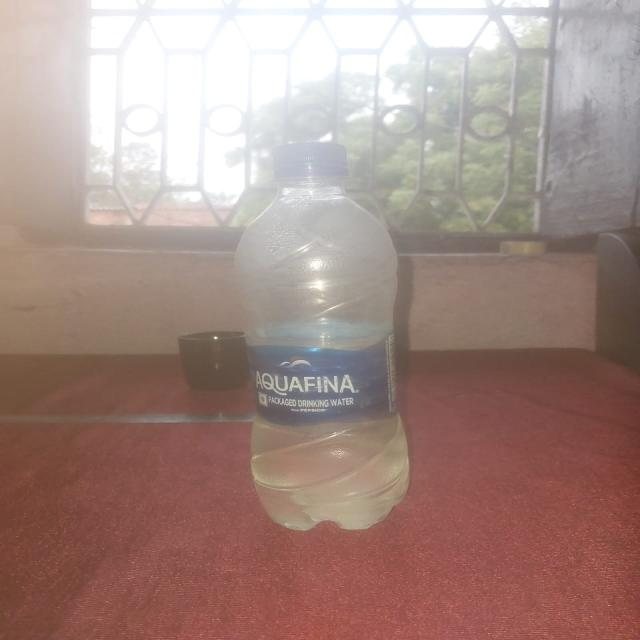Bottle: (227, 143, 413, 535)
Cup: (180, 331, 236, 393)
scale: (0, 403, 218, 430)
